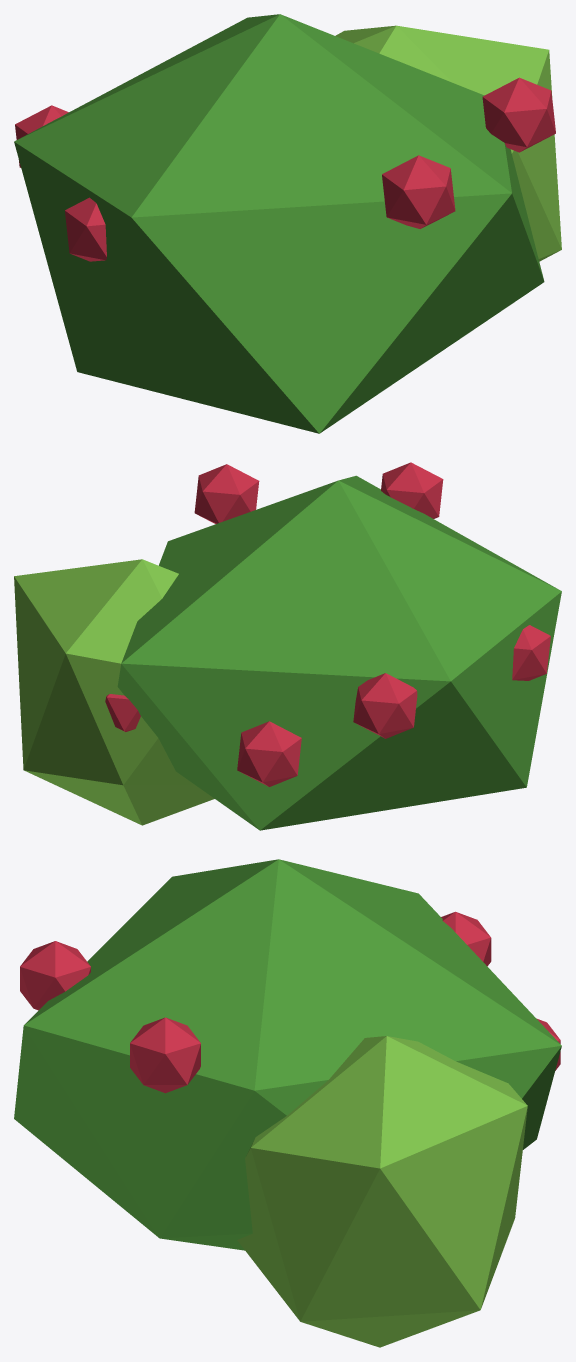
Rendered from bush.glb.
3 views of the same model, one above another, from view 1: azimuth 30°, elevation 25°; view 2: azimuth 150°, elevation 25°; view 3: azimuth 270°, elevation 25° (orthographic). The views are drawn at different scales.
Visible parts, largest first — view 1: bush; view 2: bush; view 3: bush.
Boxes of the visible parts, x1=… form: bush: x1=14, y1=14, x2=561, y2=433; bush: x1=14, y1=462, x2=561, y2=830; bush: x1=14, y1=859, x2=561, y2=1347.
Bounding box in the file's own units: 1.06 × 0.743 × 0.9158.
